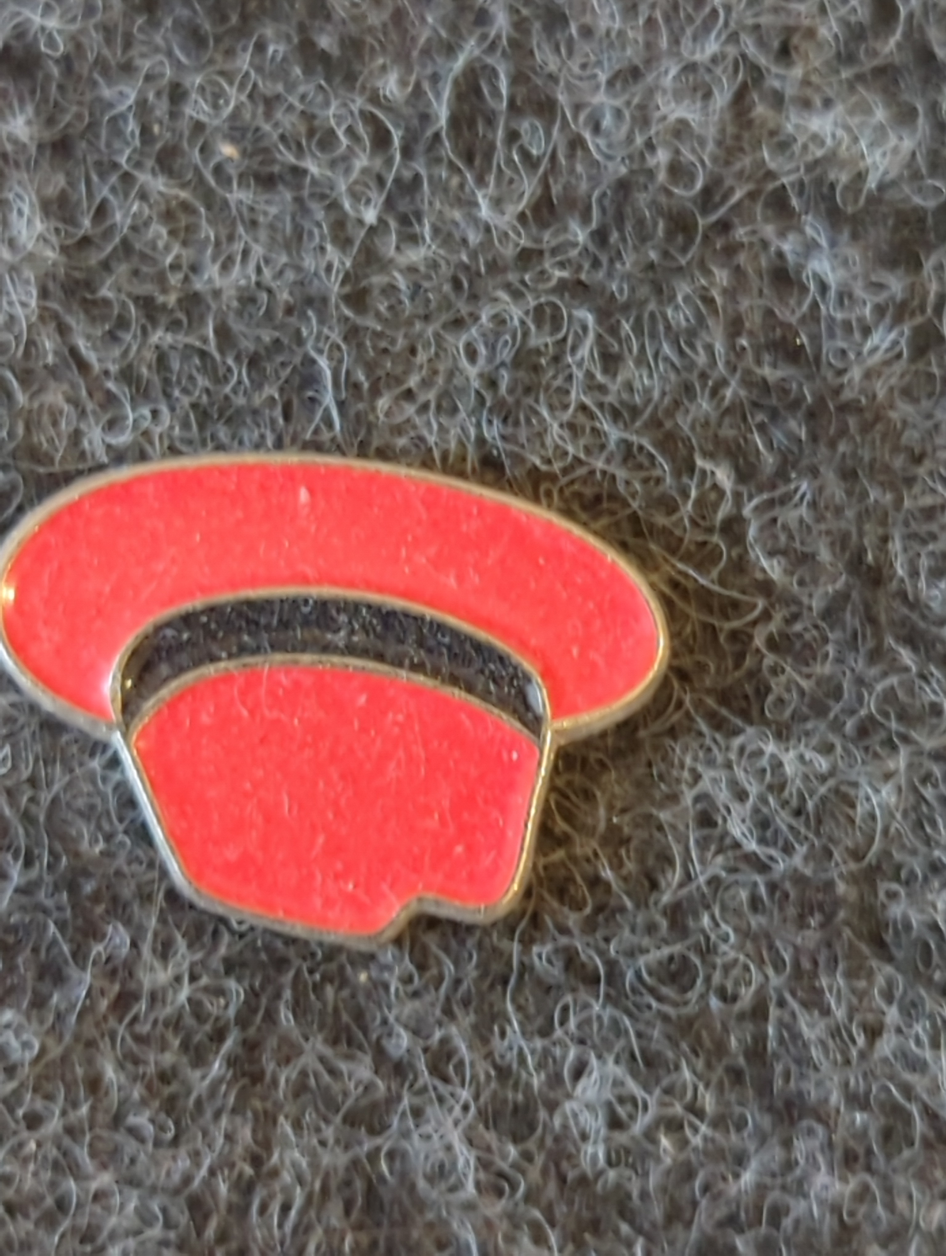Red-Hat: (0, 366, 704, 1071)
